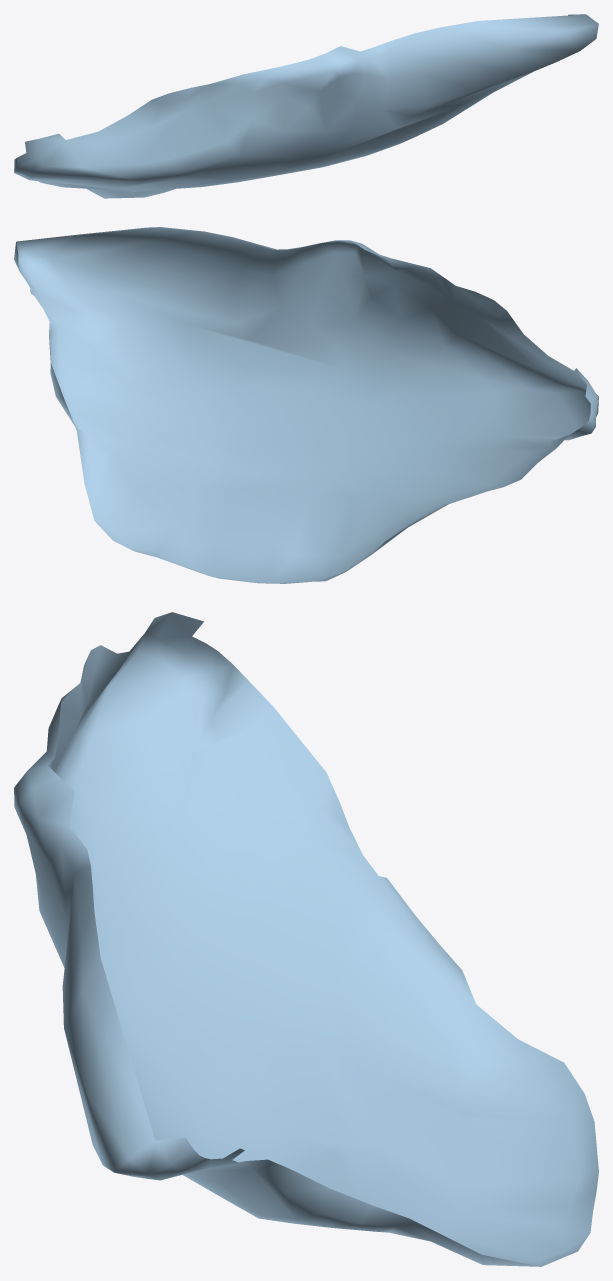
The model's file is RS-4Y_ice02TOP.fbx.
3 views of the same model, one above another, from view 1: azimuth 30°, elevation 25°; view 2: azimuth 150°, elevation 25°; view 3: azimuth 270°, elevation 25° (orthographic). The views are drawn at different scales.
Parts seen in each view (by area): view 1: RS-4Y_ice02TOP.001; view 2: RS-4Y_ice02TOP.001; view 3: RS-4Y_ice02TOP.001.
Part boxes in pixels (x1,y1,x2,y2): RS-4Y_ice02TOP.001: (14, 14, 598, 198); RS-4Y_ice02TOP.001: (14, 227, 598, 583); RS-4Y_ice02TOP.001: (14, 612, 598, 1266).
Size of the model in its own units: 3133 by 1148 by 1436.
